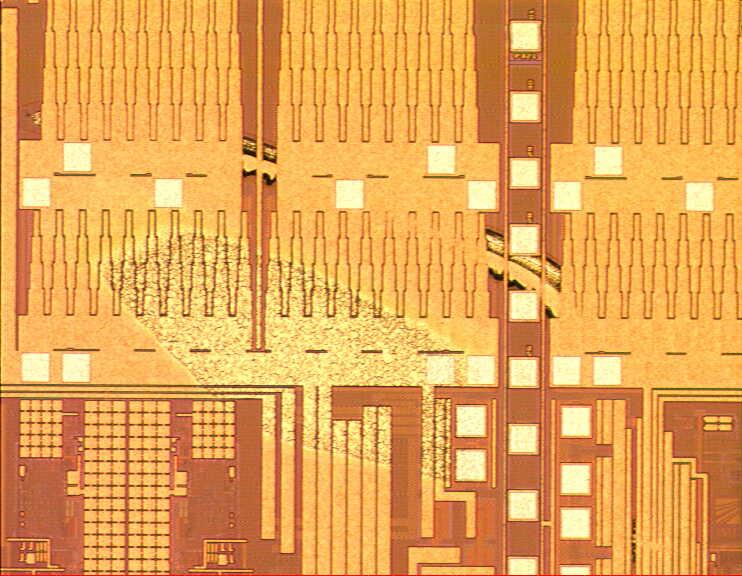BLOCK ETCH: (90, 137, 566, 505)
